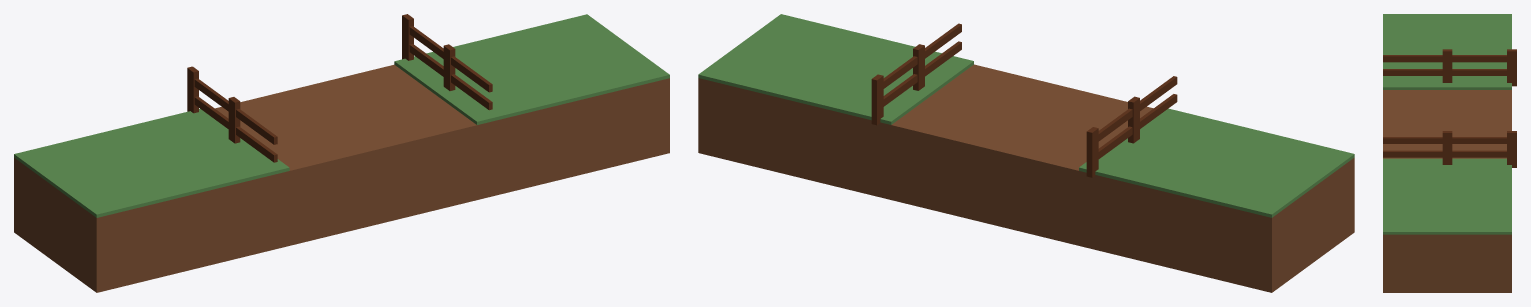
File: chunk-01.obj
3 renders of one model, left to right at view 1: azimuth 30°, elevation 25°; view 2: azimuth 150°, elevation 25°; view 3: azimuth 270°, elevation 25°, orthographic. The views are drawn at different scales.
Parts seen in each view (by area): view 1: Ground.001, road.003, Rails.009, Rails.013; view 2: Ground.001, road.003, Rails.013, Rails.009; view 3: road.003, Ground.001, Rails.013, Rails.009.
Part boxes in pixels (x1,y1,x2,y2): Ground.001: (14, 64, 669, 292); road.003: (14, 14, 669, 217); Rails.009: (402, 14, 492, 110); Rails.013: (187, 66, 277, 162); Ground.001: (698, 64, 1354, 292); road.003: (698, 14, 1354, 217); Rails.013: (1086, 76, 1177, 177); Rails.009: (871, 23, 961, 125); road.003: (1383, 14, 1511, 234); Ground.001: (1383, 90, 1511, 292); Rails.013: (1383, 49, 1516, 86); Rails.009: (1383, 131, 1516, 167).
Size of the model in its own units: 16 by 3.18 by 4.15.
